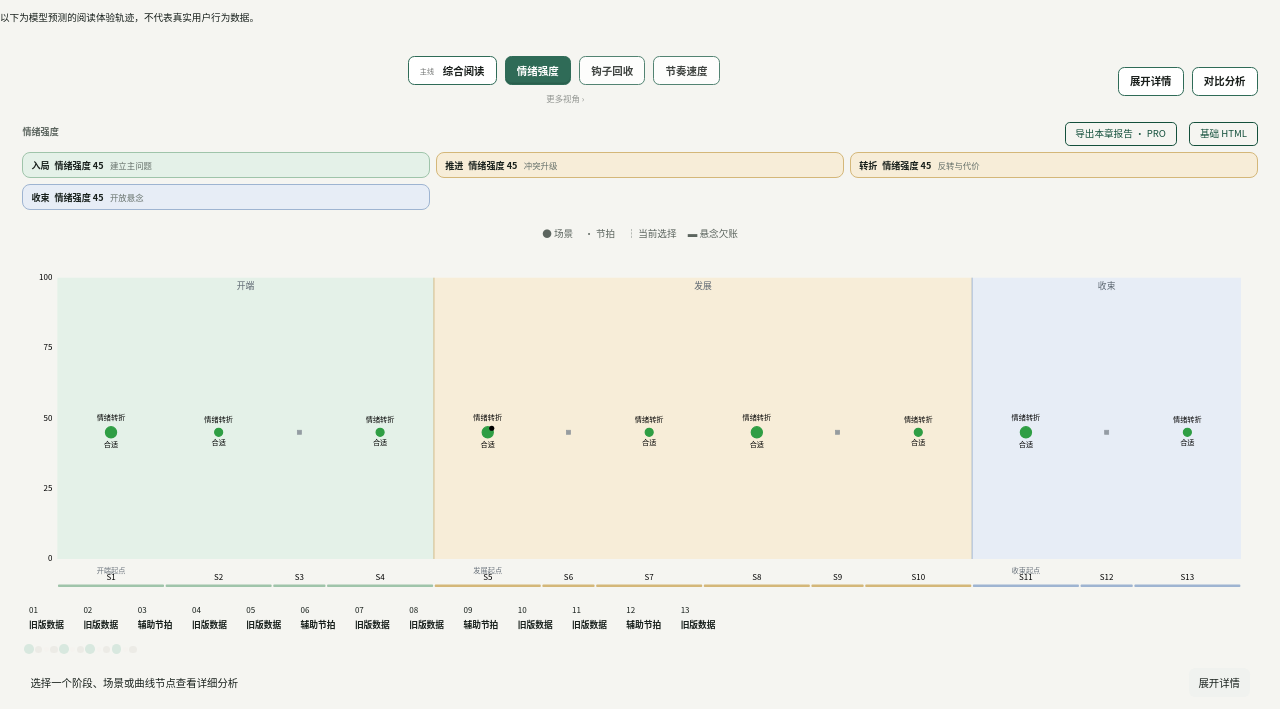
对比分析 mode + unified topbar › requires confirm before entering compare mode
The width and height of the screenshot is (1280, 709).
Click the button with test id "journey-overlay-composite" at (1225, 81), box [1192,67,1258,96]
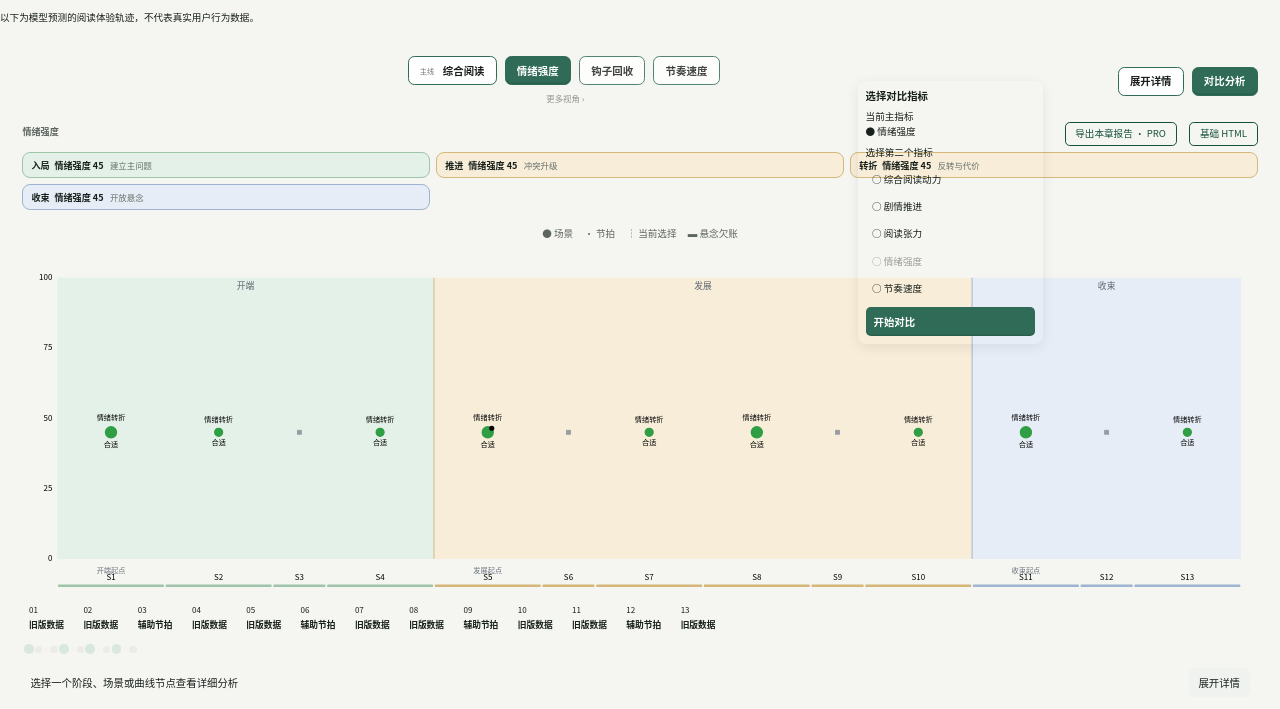
Result: the element with test id "journey-compare-primary-label" shows "情绪强度" at [877,124,916,138]
Click the radio button with test id "journey-compare-reading_momentum" at (950, 179), box [866,167,1035,192]
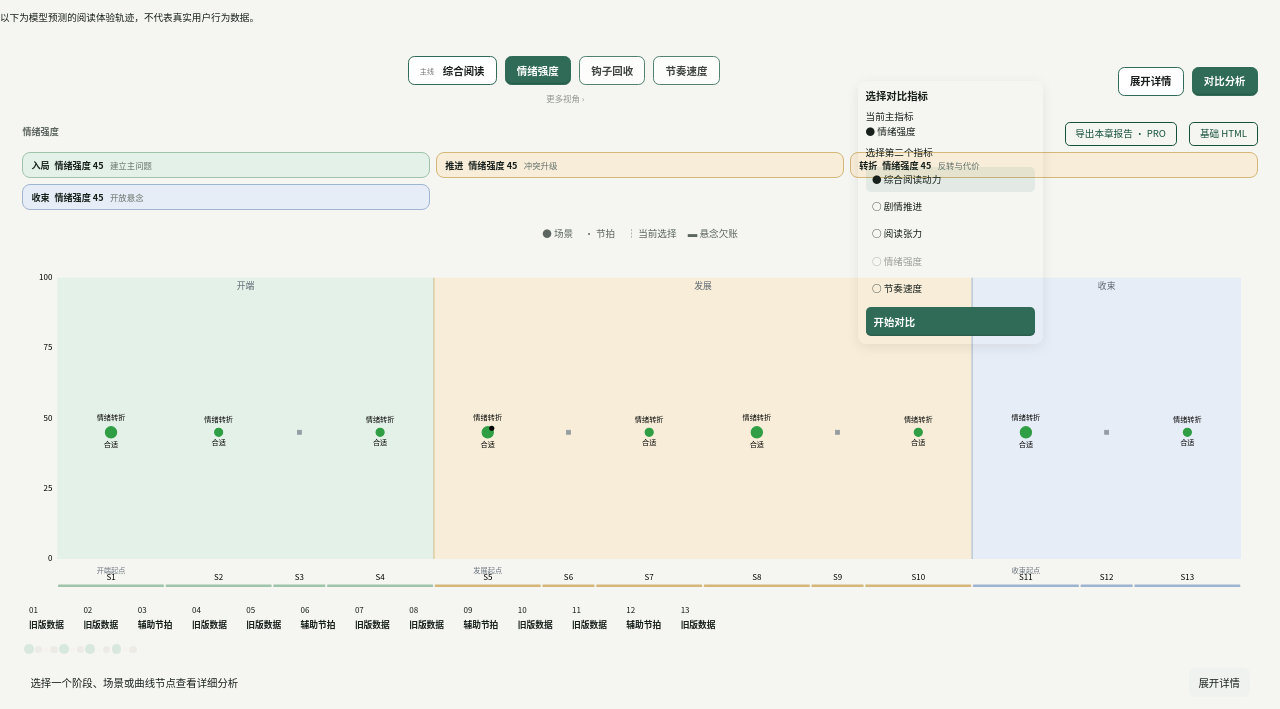
Click the button with test id "journey-compare-confirm" at (950, 322), box [866,307,1035,336]
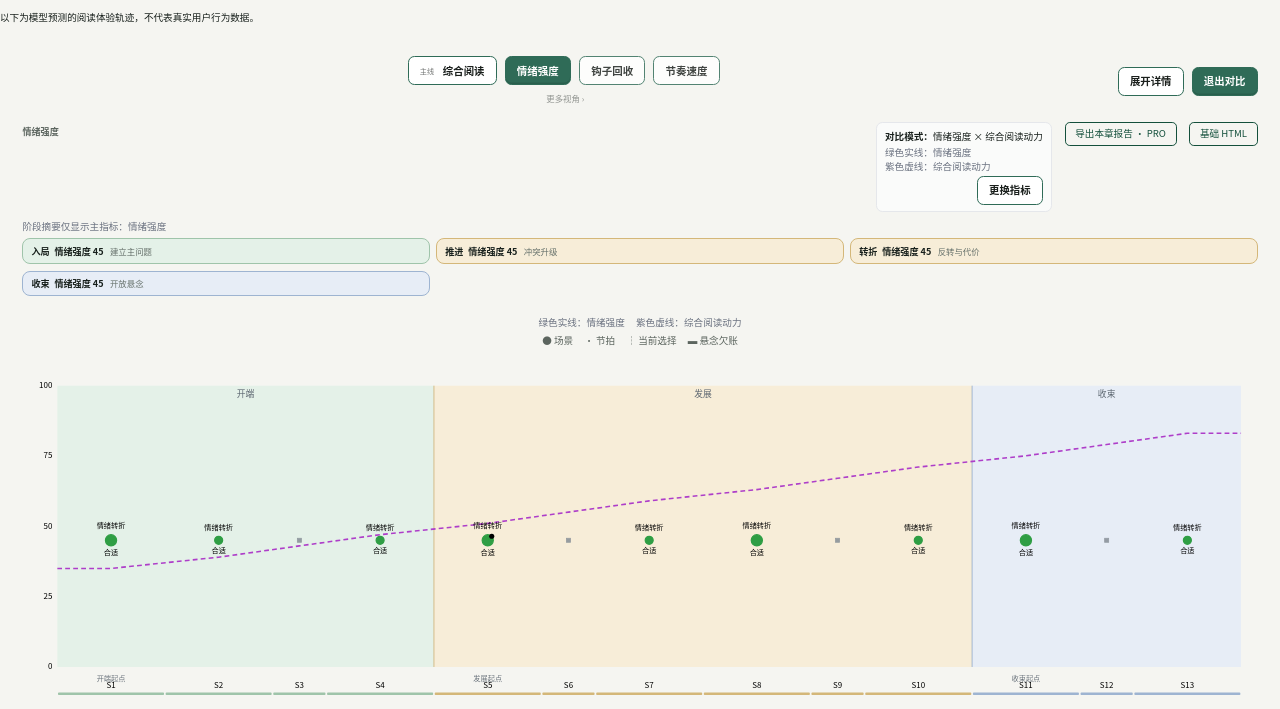
Result: the message "对比模式：情绪强度 × 综合阅读动力 绿色实线：情绪强度 紫色虚线：综合阅读动力 更换指标" is shown at [876,122,1052,212]
Result: the element with test id "journey-comparison-active" reads "对比模式：情绪强度 × 综合阅读动力" at [885,130,1043,143]
Result: the button with test id "journey-comparison-exit" is shown at [1192,67,1258,96]
